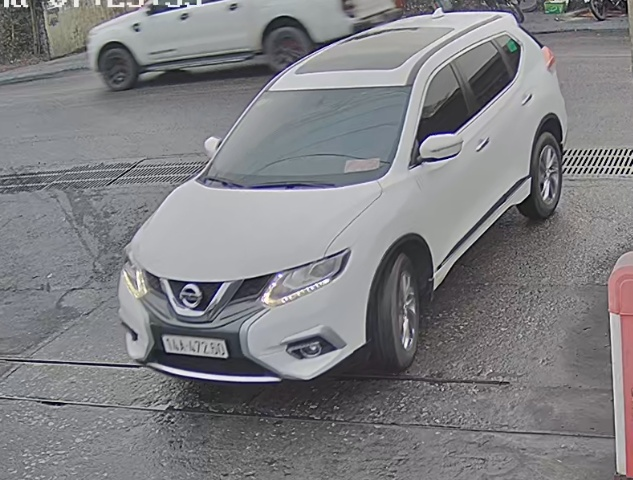vehicle plate: (145, 326, 234, 362)
